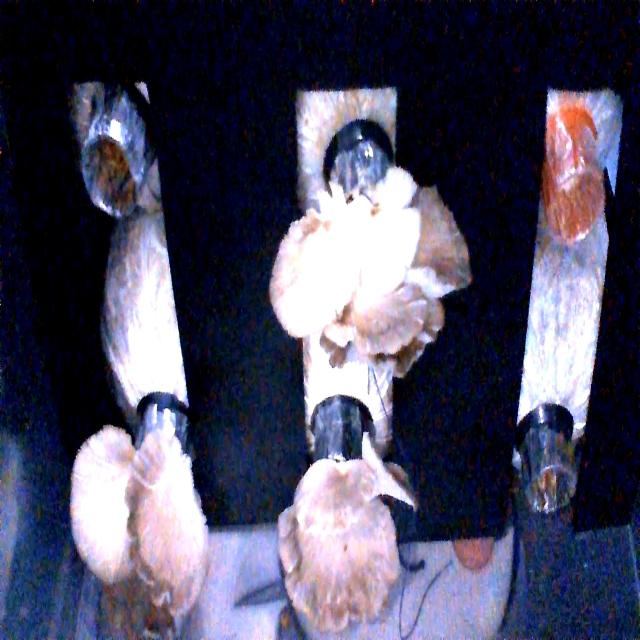big: (67, 409, 217, 608), (273, 440, 424, 625)
